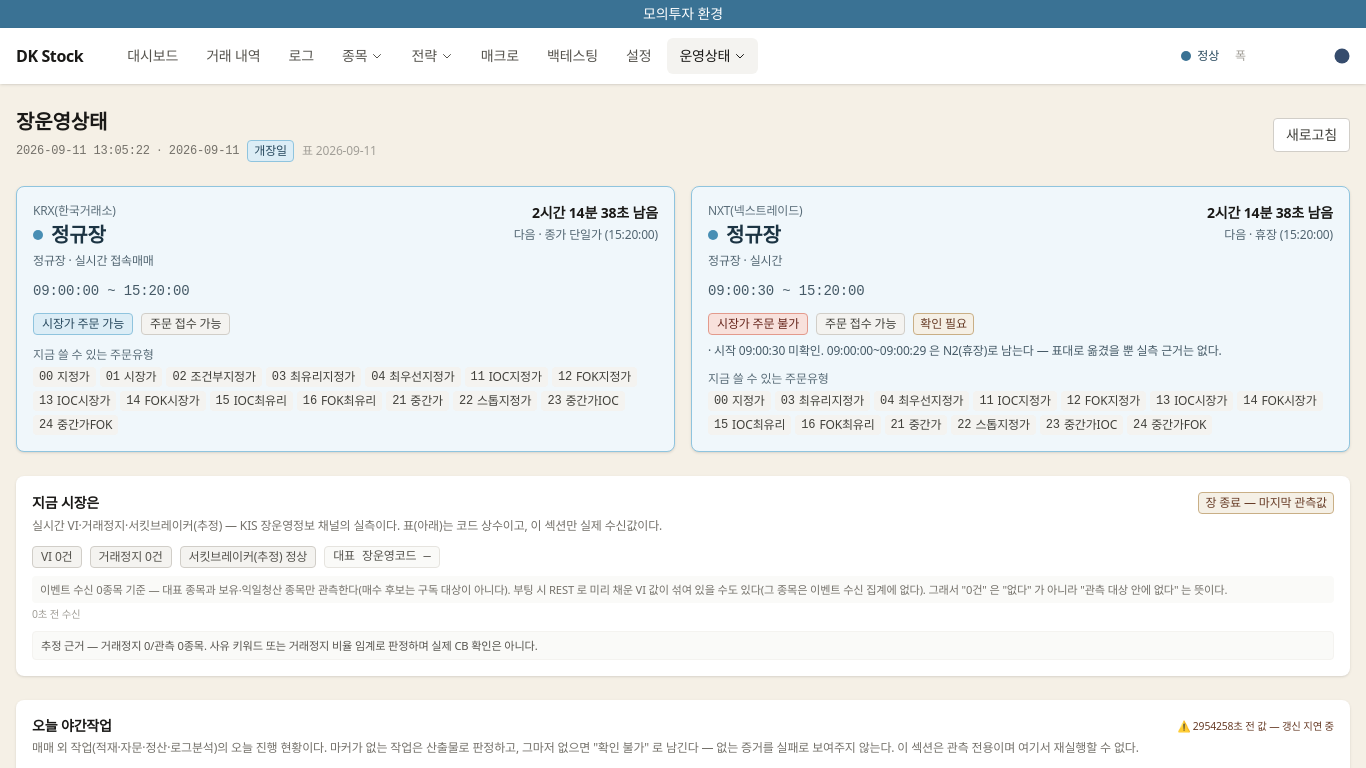
cycle282 FE22 — 신규 메뉴 항목과 경로 › 나브에 장운영상태 링크가 **한 개** 있고 `/market-state` 를 가리킨다
Click the button "운영상태": click(713, 56) top-left (667, 38), bottom-right (758, 74)
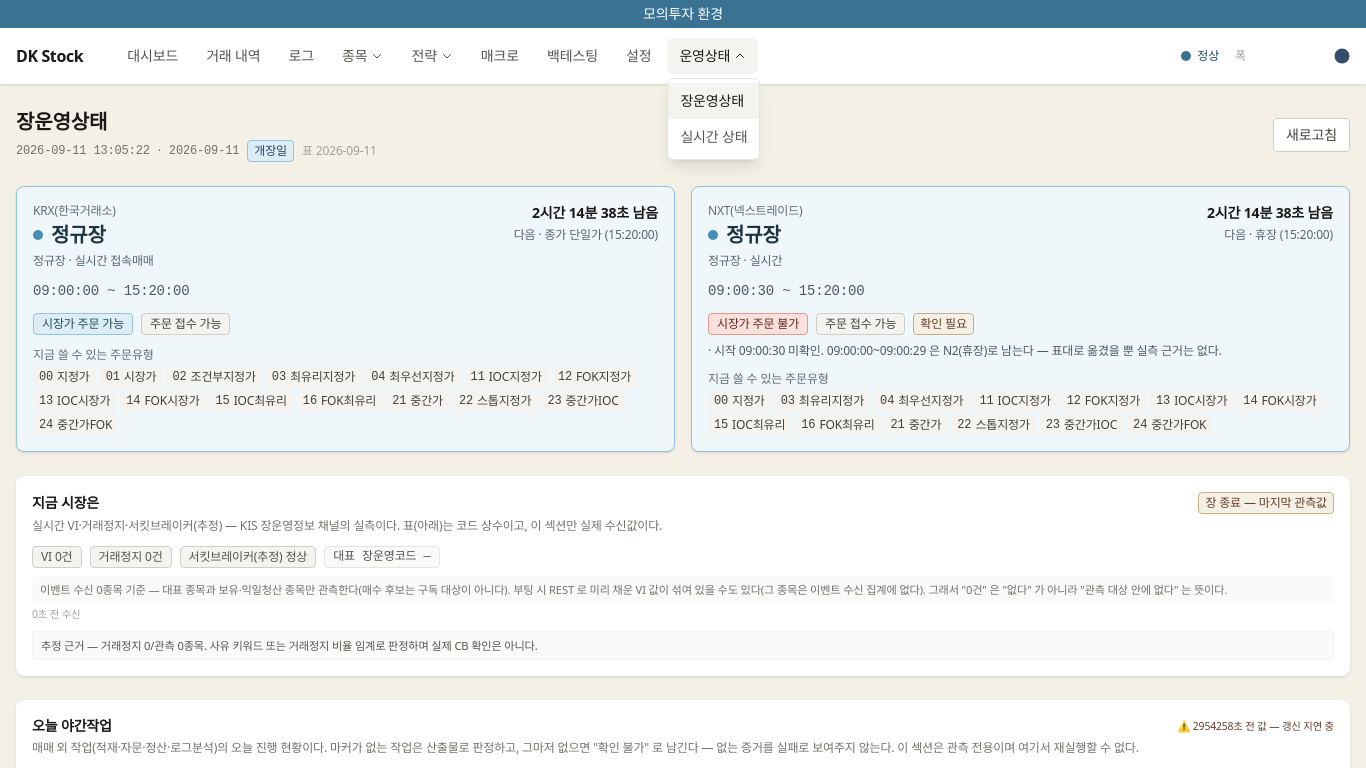
Check: the link "장운영상태" is shown, box top-left (668, 83), bottom-right (760, 119)
